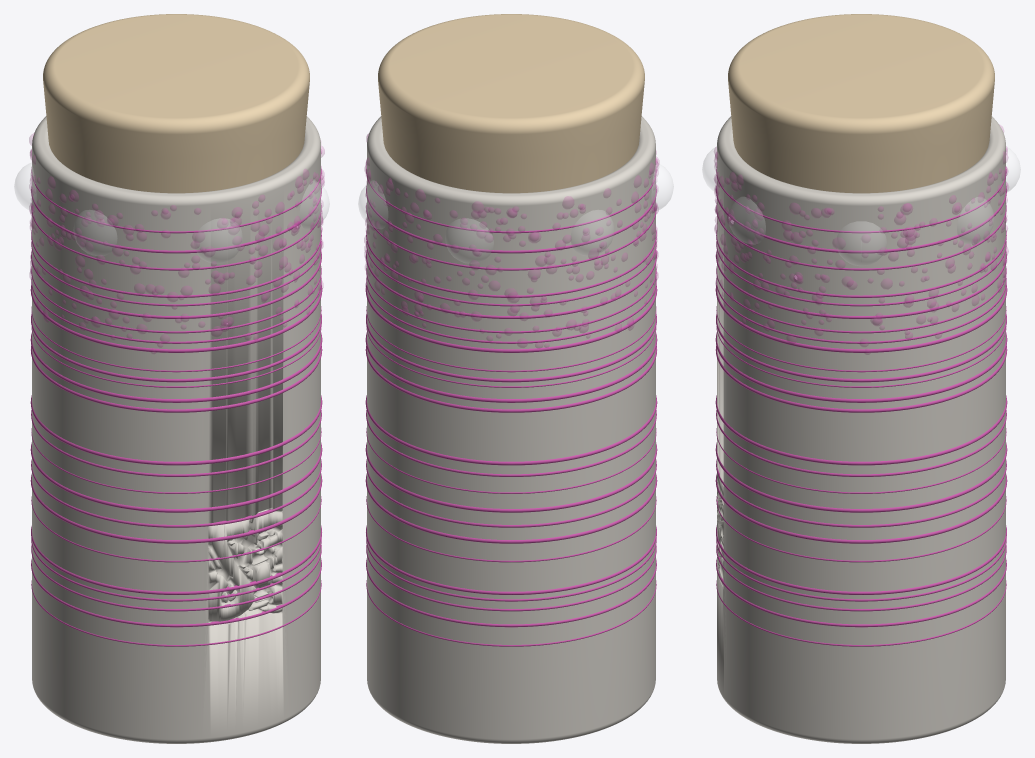
The model's file is jar_clear_gold.glb.
The picture shows the model from 3 angles, left to right: view 1: azimuth 30°, elevation 25°; view 2: azimuth 150°, elevation 25°; view 3: azimuth 270°, elevation 25°; orthographic projection.
Visible parts, largest first — view 1: body, cork, lines, frit, marbles; view 2: body, cork, lines, frit, marbles; view 3: body, cork, lines, frit, marbles.
Boxes of the visible parts, bbox=[...] form: body: bbox=[32, 116, 320, 743]; cork: bbox=[43, 14, 309, 228]; lines: bbox=[30, 166, 322, 646]; frit: bbox=[29, 133, 324, 353]; marbles: bbox=[14, 163, 329, 263]; body: bbox=[367, 116, 655, 743]; cork: bbox=[378, 14, 644, 251]; lines: bbox=[365, 166, 657, 646]; frit: bbox=[364, 133, 659, 348]; marbles: bbox=[358, 163, 673, 263]; body: bbox=[717, 116, 1005, 743]; cork: bbox=[728, 14, 994, 193]; lines: bbox=[715, 166, 1007, 646]; frit: bbox=[714, 125, 1008, 354]; marbles: bbox=[702, 147, 1020, 265].
Size of the model in its own units: 0.0475 by 0.104 by 0.0486.
